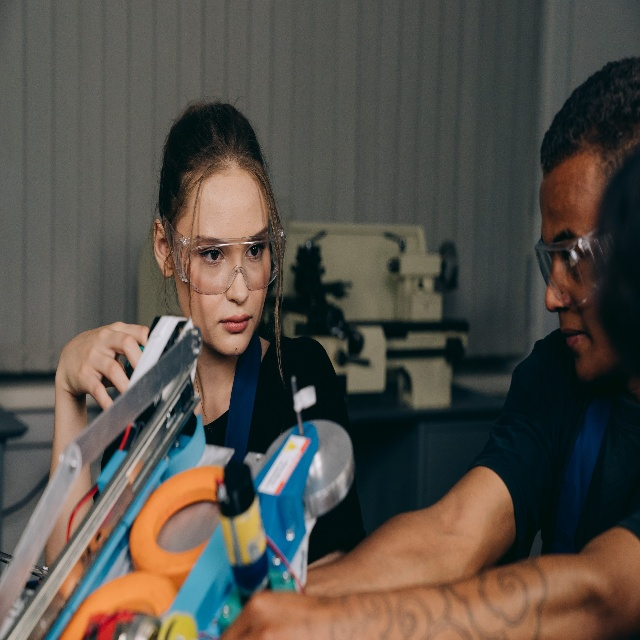Gafas: (163, 214, 287, 297), (535, 229, 628, 316)
Sin_guantes: (57, 318, 155, 415)
